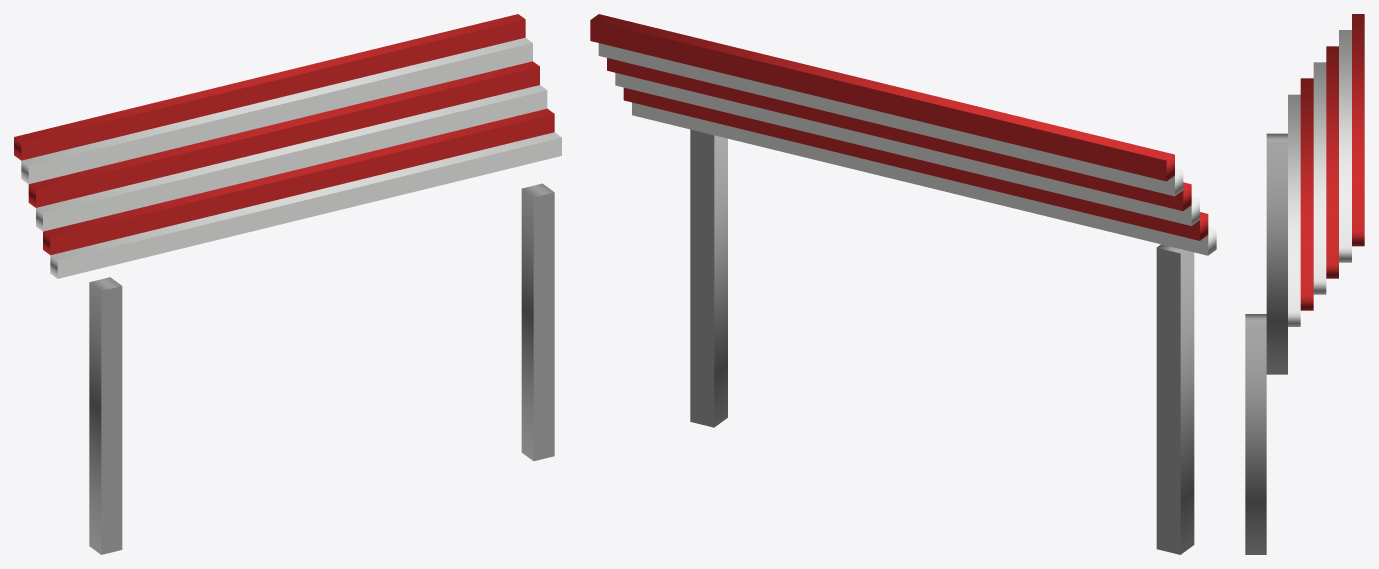
The picture shows the model from 3 angles, left to right: view 1: azimuth 30°, elevation 25°; view 2: azimuth 150°, elevation 25°; view 3: azimuth 270°, elevation 25°; orthographic projection. The views are drawn at different scales.
Visible parts, largest first — view 1: K2_b00, K2_b300, K2_b375, K2_b150, K2_b225, K2_b75, K2_r450, K2_r575; view 2: K2_b00, K2_r450, K2_r575, K2_b300, K2_b75, K2_b375, K2_b225, K2_b150; view 3: K2_r450, K2_r575, K2_b225, K2_b300, K2_b00, K2_b150, K2_b375, K2_b75.
Part boxes in pixels (x1,y1,x2,y2): K2_b00: (14,14,525,160); K2_b300: (43,108,554,255); K2_b375: (50,132,561,278); K2_b150: (28,61,539,207); K2_b225: (36,85,547,231); K2_b75: (21,37,532,184); K2_r450: (89,277,122,554); K2_r575: (521,183,554,461); K2_b00: (590,14,1174,181); K2_r450: (1156,244,1194,554); K2_r575: (690,129,727,427); K2_b300: (623,87,1208,240); K2_b75: (598,43,1183,196); K2_b375: (632,102,1216,255); K2_b225: (615,73,1199,225); K2_b150: (607,58,1191,210); K2_r450: (1266,133,1287,374); K2_r575: (1245,314,1266,554); K2_b225: (1313,62,1326,294); K2_b300: (1300,78,1313,310); K2_b00: (1352,14,1364,246); K2_b150: (1326,46,1338,278); K2_b375: (1288,94,1300,326); K2_b75: (1339,30,1351,262).
Size of the model in its own units: 1.2 by 0.875 by 0.28.
